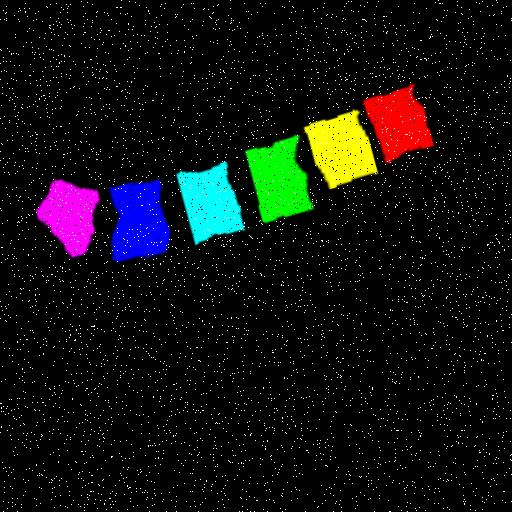L1: (363, 82, 434, 160)
L2: (305, 109, 376, 187)
L3: (245, 133, 314, 221)
L4: (178, 160, 245, 242)
L5: (109, 179, 170, 261)
S1: (37, 179, 99, 256)
